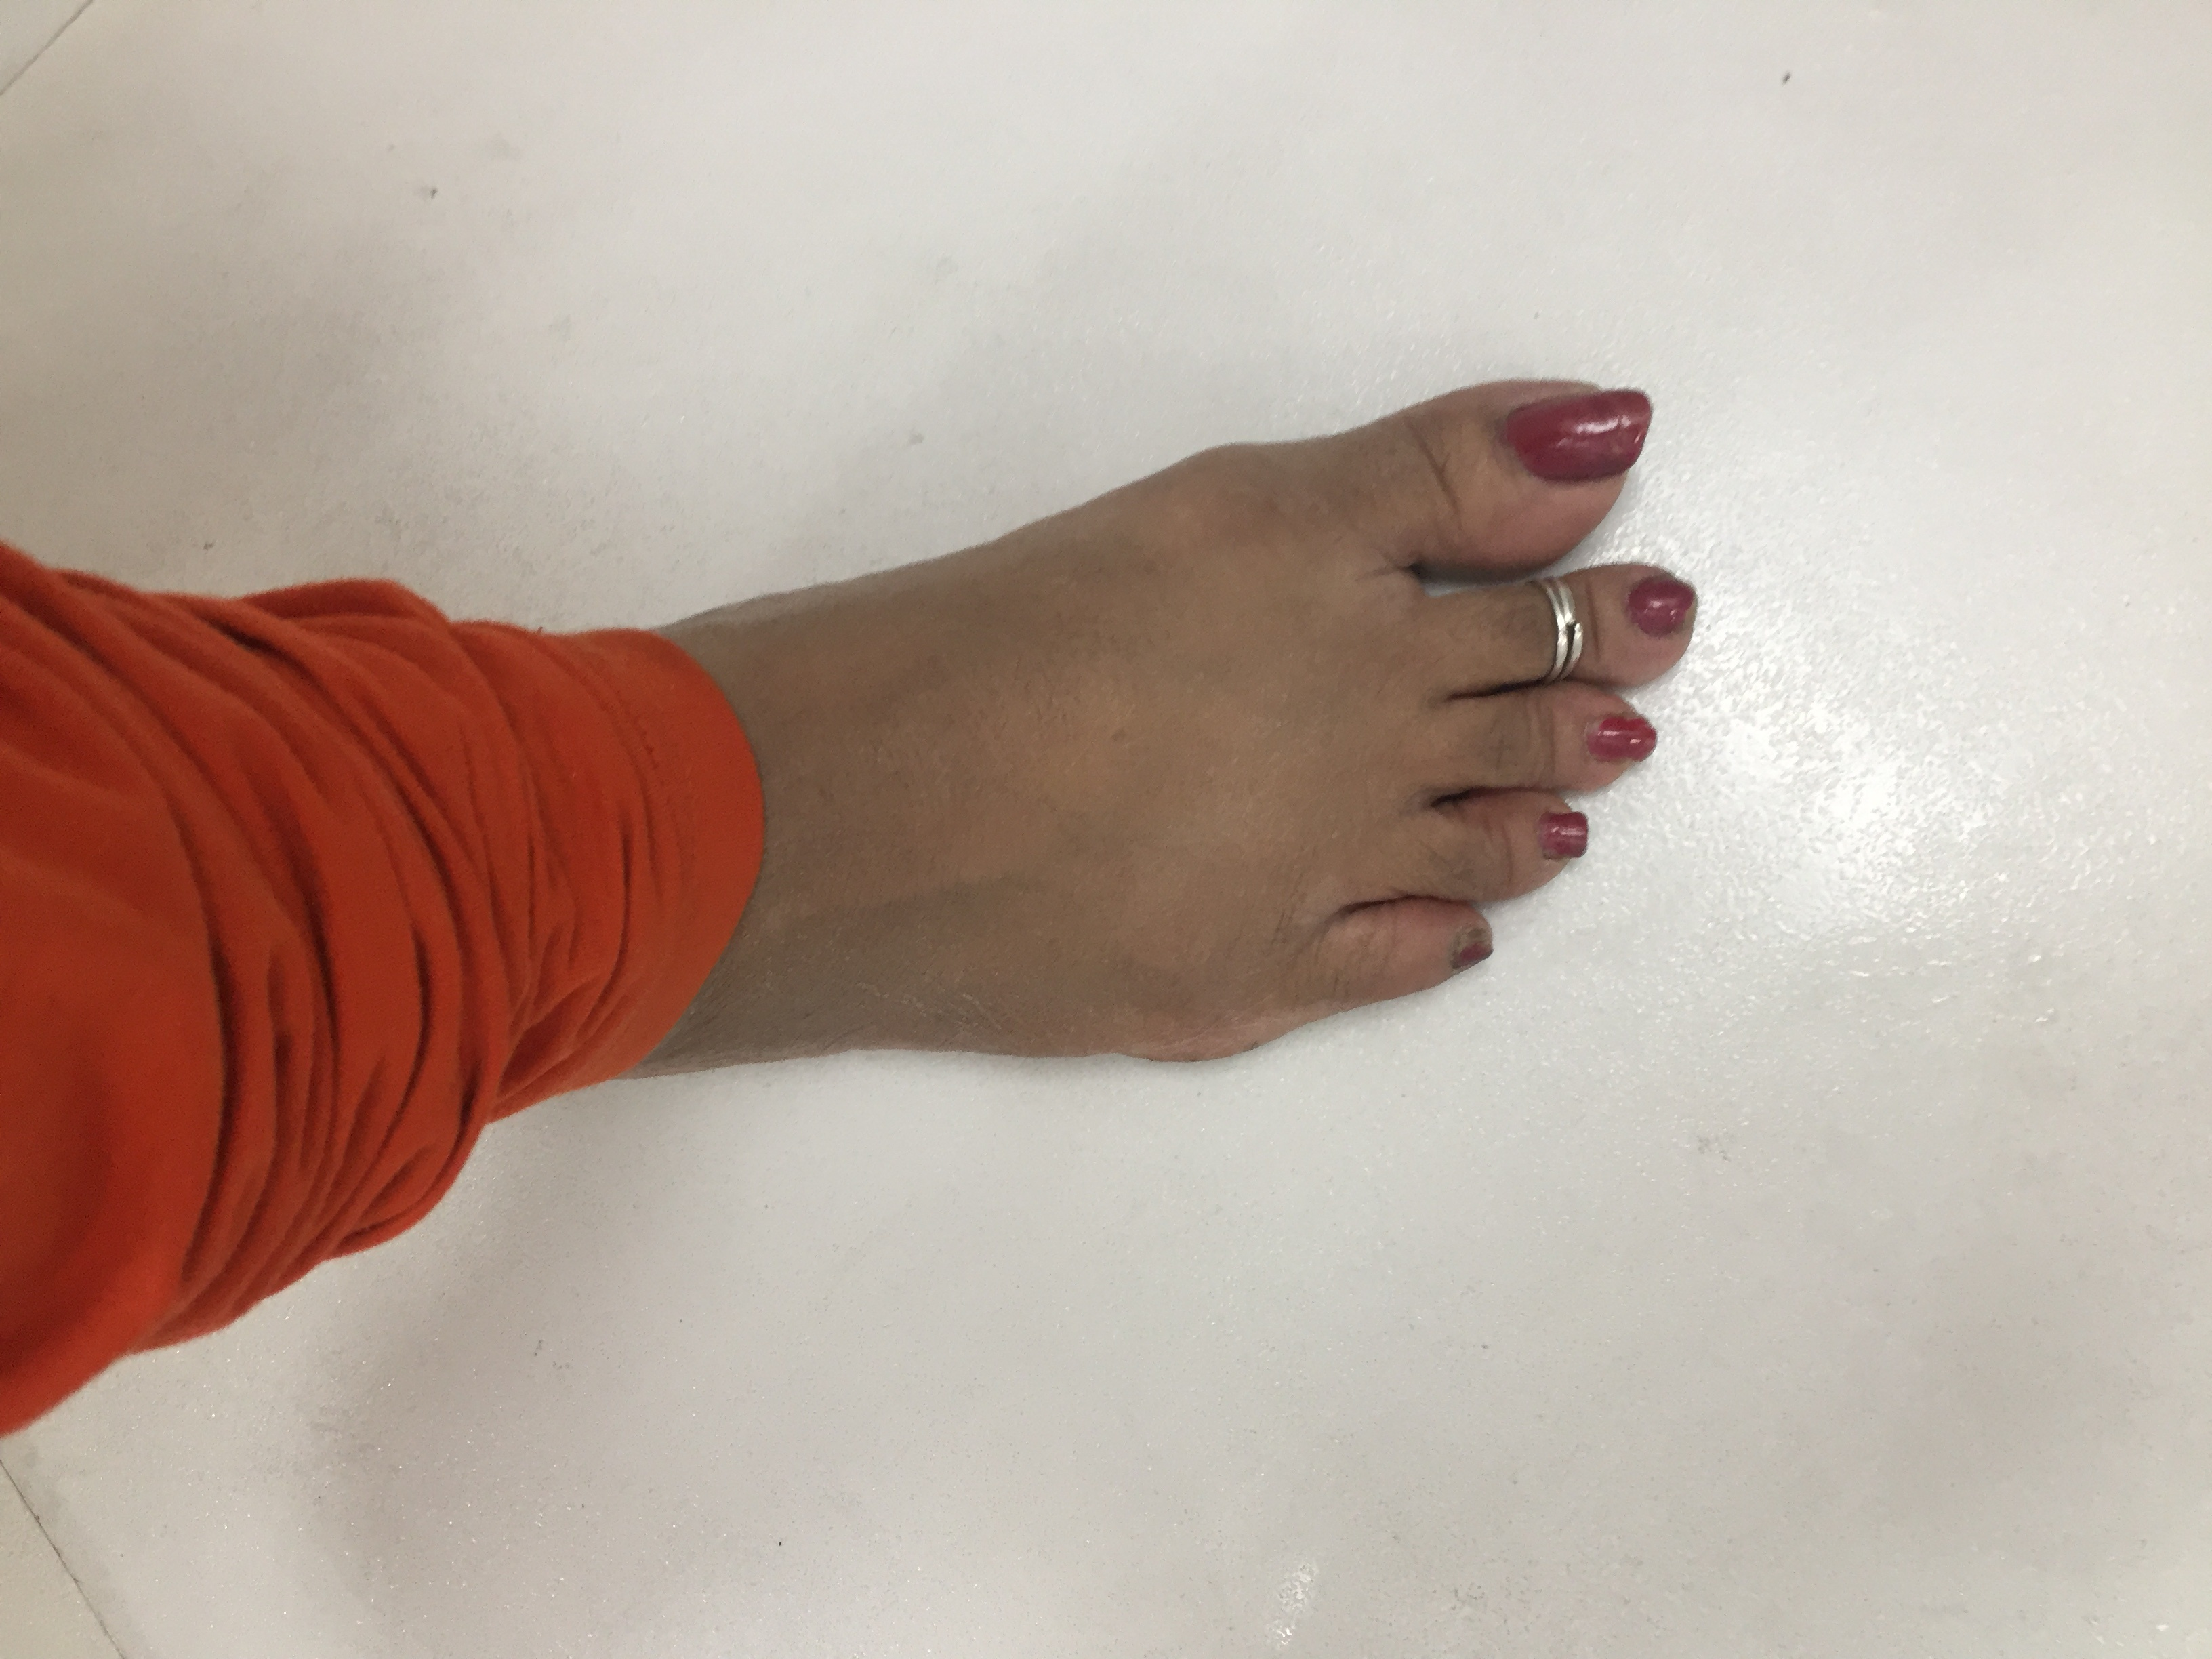feet: (352, 347, 1707, 1073)
